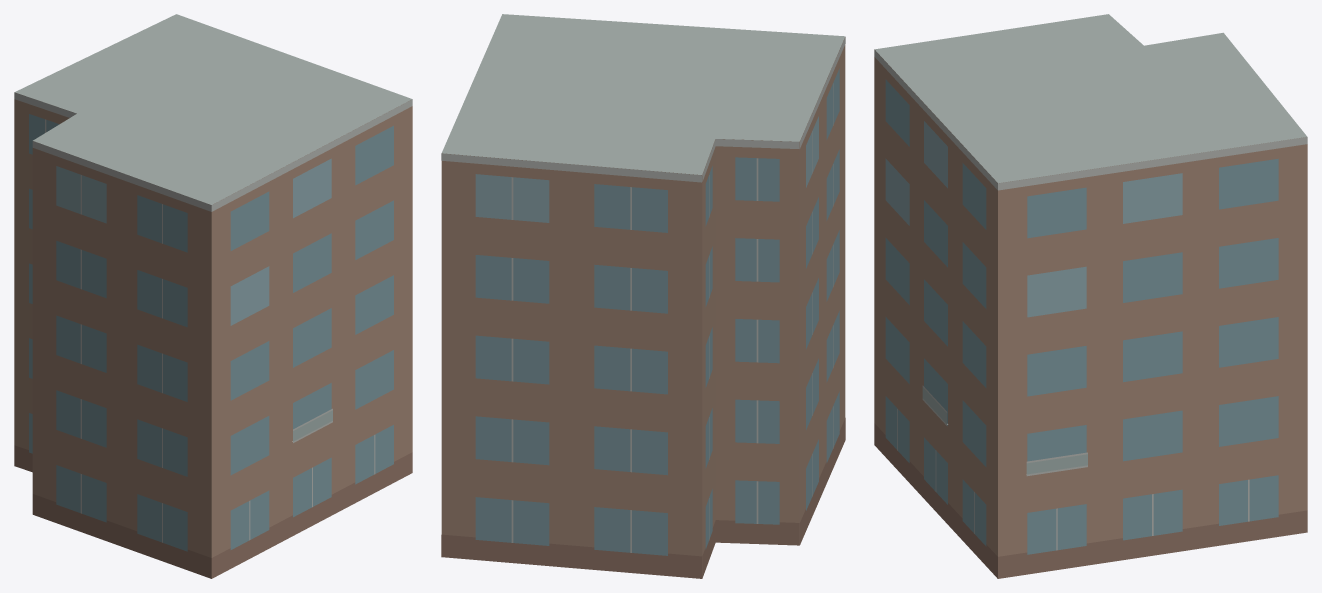
The model's file is survey-upis-32864484.glb.
3 renders of one model, left to right at view 1: azimuth 30°, elevation 25°; view 2: azimuth 150°, elevation 25°; view 3: azimuth 270°, elevation 25°, orthographic. The views are drawn at different scales.
Visible parts, largest first — view 1: survey-upis-32864484.tmp; view 2: survey-upis-32864484.tmp; view 3: survey-upis-32864484.tmp.
Boxes of the visible parts, x1,y1,x2,y2 form: survey-upis-32864484.tmp: (14,14,412,578); survey-upis-32864484.tmp: (441,14,845,578); survey-upis-32864484.tmp: (874,14,1307,578).
Size of the model in its own units: 12.17 by 13.25 by 13.16.
